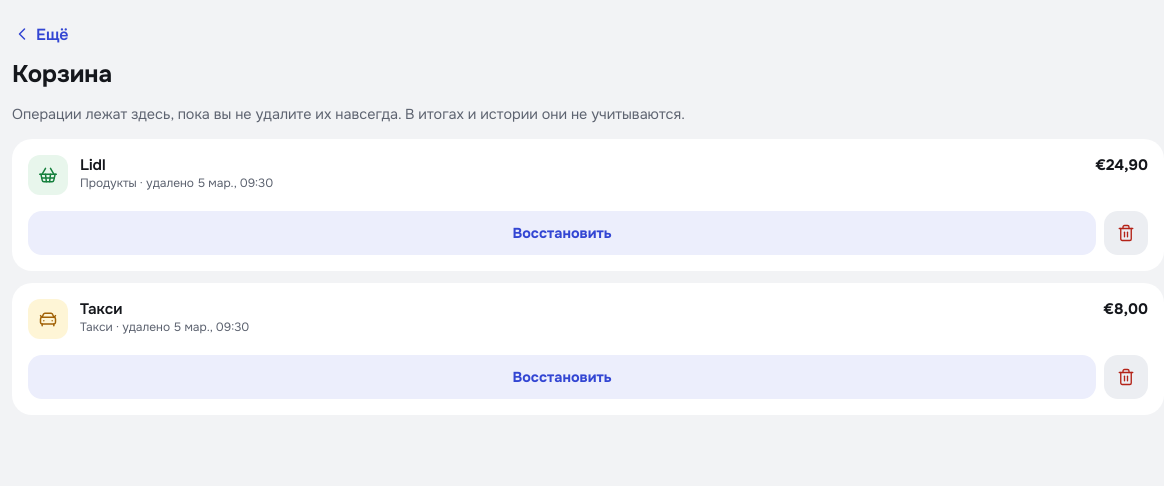
Scenario: TrashScreen › keeps only one card in confirm mode
The width and height of the screenshot is (1164, 486).
What coordinates should you click on to do the following:
click the button named "Удалить навсегда: Lidl"
I would click on:
 (1126, 233)
Its box is [1104,211,1148,255].
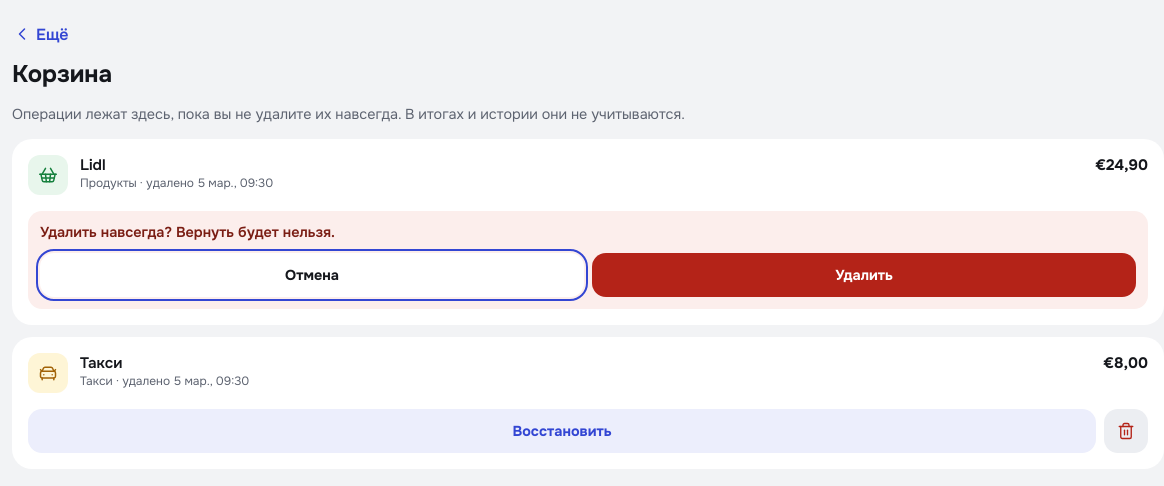
What coordinates should you click on to do the following:
click the button named "Удалить навсегда: Такси"
I would click on:
 (1126, 431)
Its box is [1104,409,1148,453].
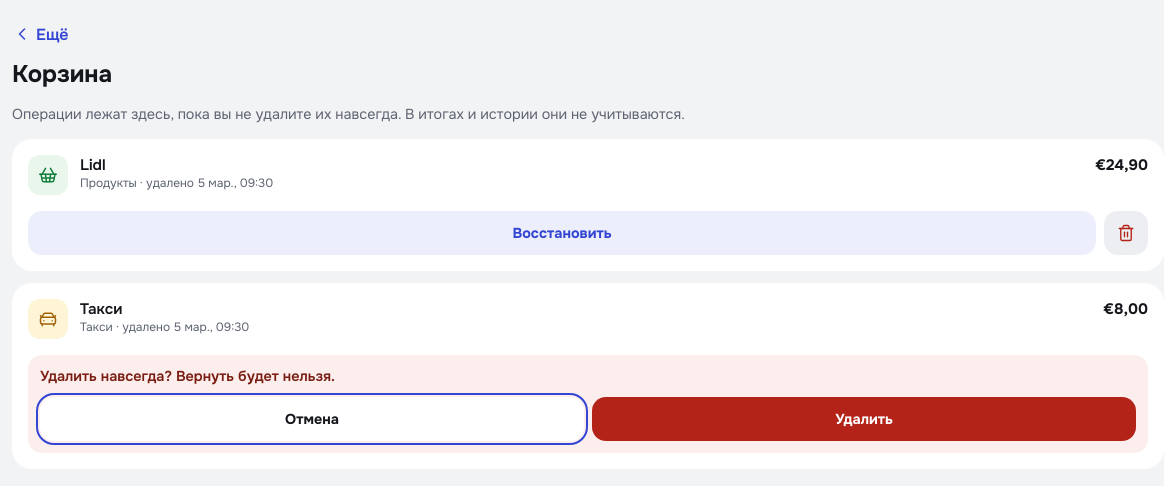
Now the text "Удалить навсегда? Вернуть будет нельзя." is shown once, box [40,367,335,385]
Now the button named "Удалить навсегда: Lidl" is shown, box [1104,211,1148,255]
